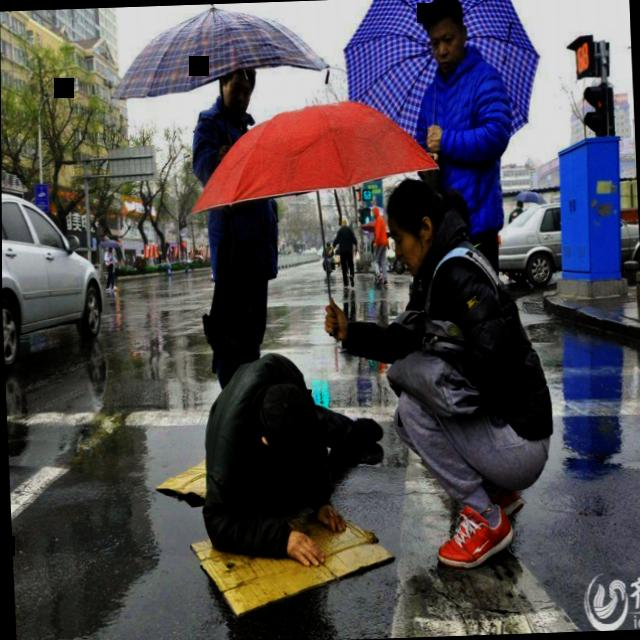Fall-Detected: (178, 339, 395, 574)
